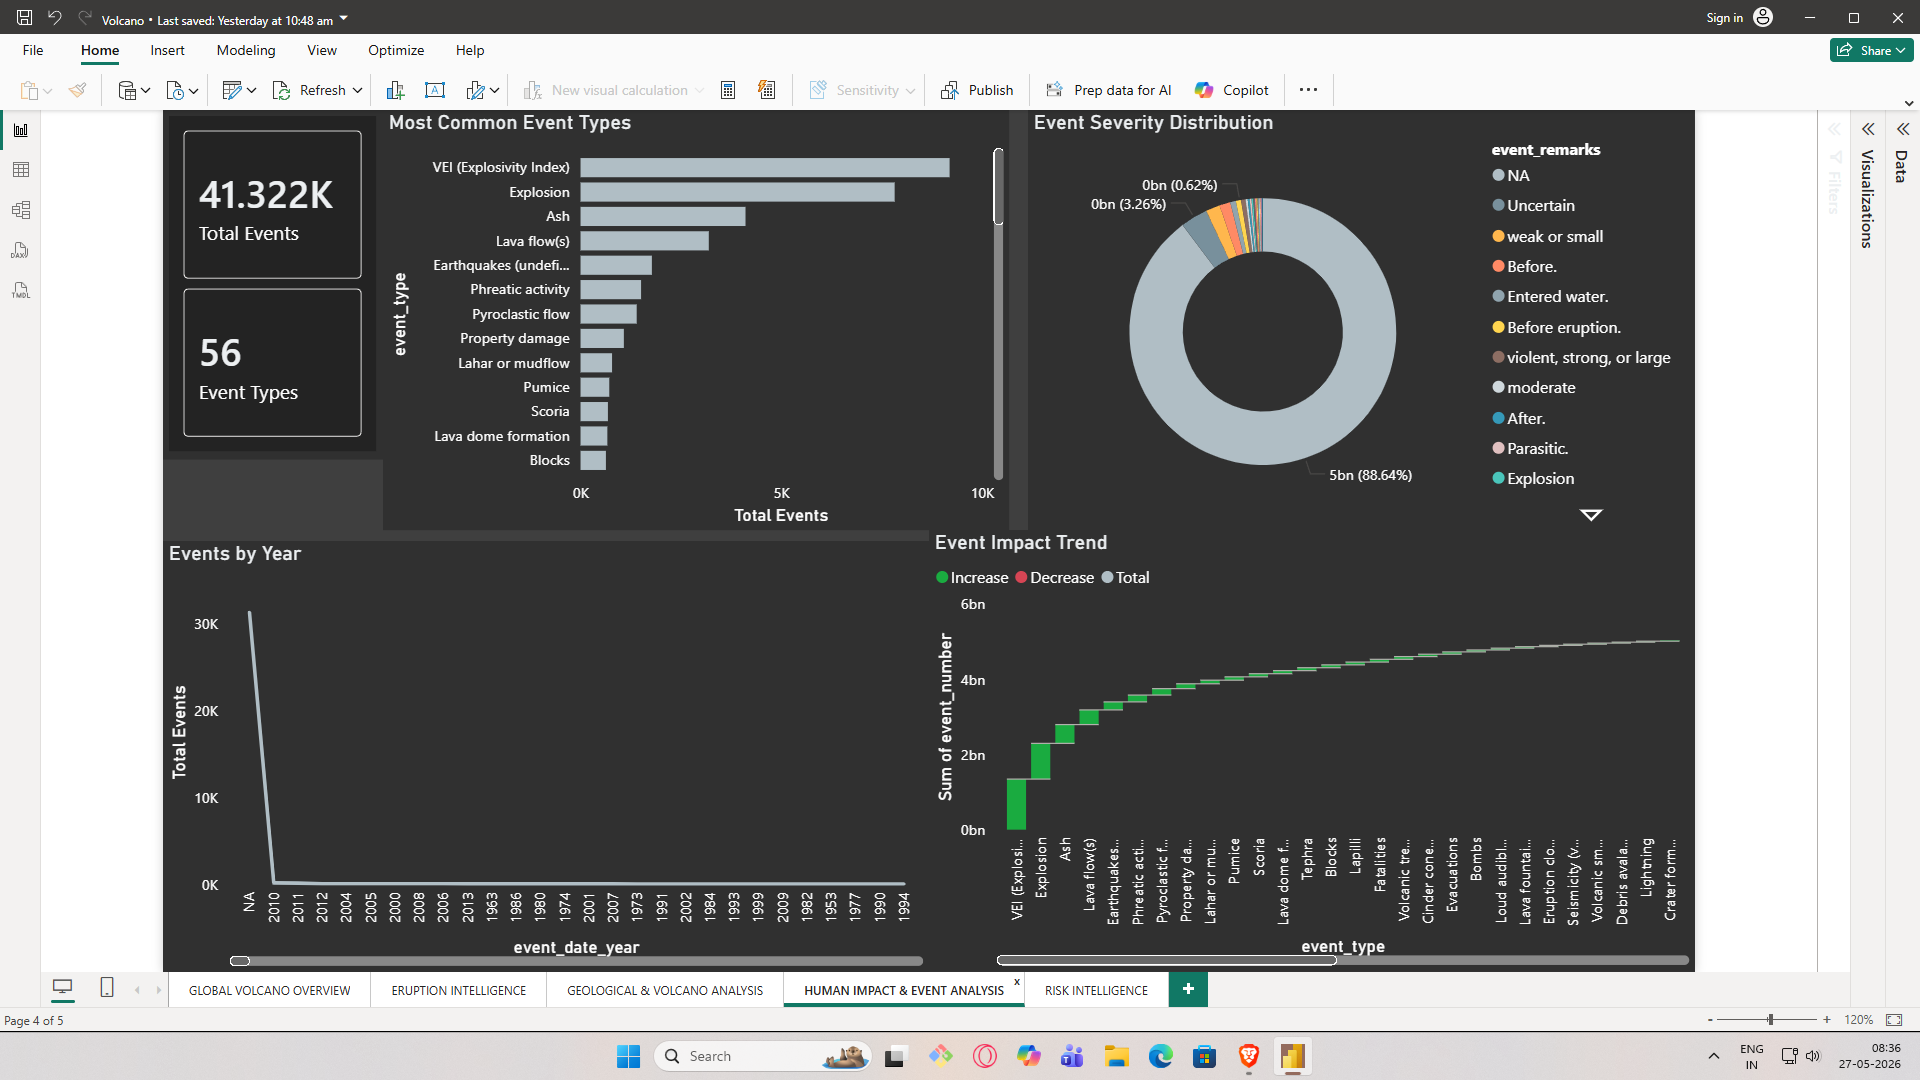

Layout of this report page (visuals, bound fields, positions):
{"tool":"powerbi","page":{"name":"HUMAN IMPACT & EVENT ANALYSIS","canvas":[1280,720],"ordinal":3},"visuals":[{"type":"cardVisual","fields":{"Data":["volcano.Total Events","volcano.Event Types"]},"box":[0,0,183.8,291.8],"z":0},{"type":"clusteredBarChart","title":"Most Common Event Types","fields":{"Category":["events.event_type"],"Y":["volcano.Total Events"]},"box":[183.8,0,523.3,351.1],"z":1000},{"type":"lineChart","title":"Events by Year","fields":{"Category":["events.event_date_year"],"Y":["volcano.Total Events"]},"box":[0,359.9,640,359.9],"z":2000},{"type":"donutChart","title":"Event Severity Distribution","fields":{"Category":["events.event_remarks"],"Y":["Sum(events.event_number)"]},"box":[722.7,0,557.3,351.1],"z":3000},{"type":"waterfallChart","title":"Event Impact Trend","fields":{"Category":["events.event_type"],"Y":["Sum(events.event_number)"]},"box":[640,351.1,640,368.6],"z":4000}]}

Visuals, with their boxes on the page's 1280x720 design canvas (x1, y1, x2, y2). These are canvas units, not pixel positions in the 1920x1080 screenshot, which may show the page scaled, cropped or inside an application window:
cardVisual - volcano.Total Events x volcano.Event Types: (0, 0, 184, 292)
"Most Common Event Types" clusteredBarChart: (184, 0, 707, 351)
"Events by Year" lineChart: (0, 360, 640, 720)
"Event Severity Distribution" donutChart: (723, 0, 1280, 351)
"Event Impact Trend" waterfallChart: (640, 351, 1280, 720)
